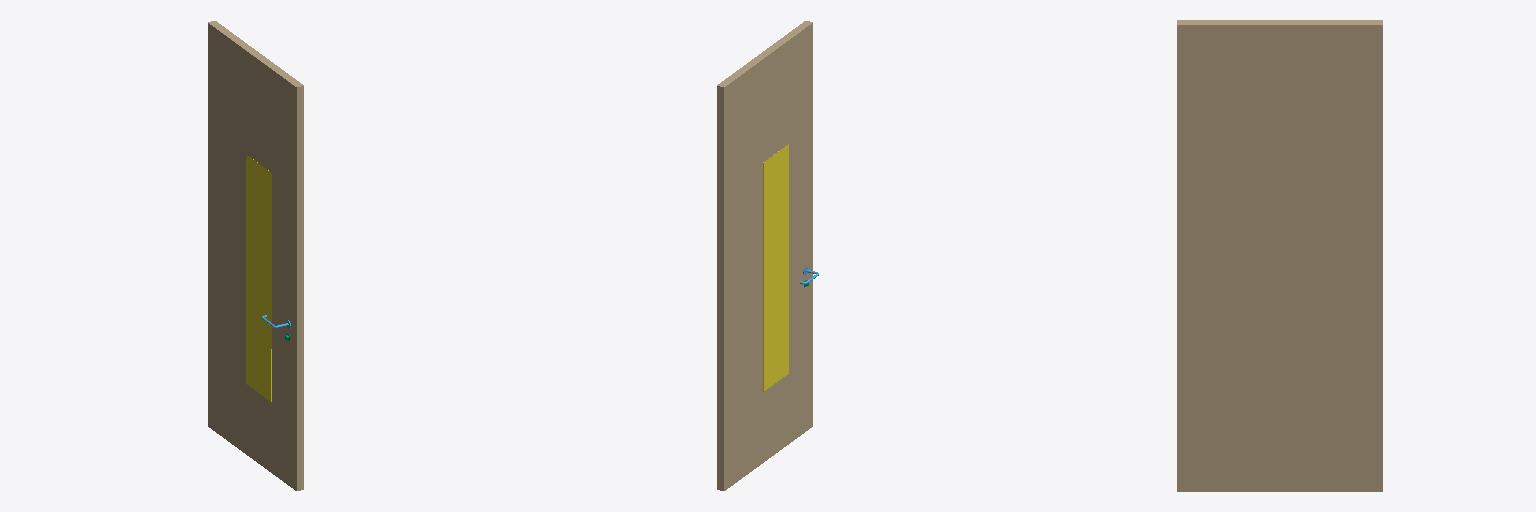
robot.urdf — simple_door:
<?xml version="1.0"?>
<robot name="simple_door">

  <!-- Door link -->
  <link name="door">
    <visual>
      <origin xyz="0 0 1.25" rpy="0 0 0"/> <!-- Centers the door in the Z-axis, assuming its height is 2.5m -->
      <geometry>
        <box size="0.05 1.0 2.5"/> <!-- Placeholder dimensions for the door: thickness x width x height -->
      </geometry>
       <material name="wood"> 
        <color rgba="0.76 0.69 0.57 1"/> <!-- Example wood color -->
       </material> 
    </visual>
    <collision>
      <origin xyz="0 0 1.25" rpy="0 0 0"/>
      <geometry>
        <box size="0.05 1.0 2.5"/> <!-- Same size as visual for simplicity -->
      </geometry>
    </collision>
    <inertial>
      <origin xyz="0 0 1.25" rpy="0 0 0"/>
      <mass value="30.0"/> <!-- Example mass in kg -->
      <inertia ixx="1.0" ixy="0" ixz="0" iyy="1.0" iyz="0" izz="1.0"/> <!-- Example inertia, replace with real values -->
    </inertial>
  </link>

  <!-- Handle link -->
  <link name="handle">
    <visual>
      <origin xyz="-0.03 -0.06 0.5" rpy="-3.14 0 0"/> <!-- Placed 1m above the base of the door -->
      <geometry>
        <mesh filename="door_handle.obj" scale="1 1 1"/> <!-- Your STL file for the handle -->
      </geometry>
    </visual>
    <collision>
      <origin xyz="-0.03 -0.06 0.5" rpy="-3.14 0 0"/>
      <geometry>
        <mesh filename="door_handle.obj" scale="1 1 1"/> <!-- Your STL file for the collision geometry -->
      </geometry>
    </collision>
    <inertial>
      <origin xyz="-0.03 -0.06 0.5" rpy="-3.14 0 0"/>
      <mass value="0.5"/> <!-- Example mass of the handle in kg -->
      <inertia ixx="0.01" ixy="0" ixz="0" iyy="0.01" iyz="0" izz="0.01"/> <!-- Placeholder inertia values -->
    </inertial>
  </link>

  <!-- Fixed joint for the handle, assuming the handle is directly on the door -->
  <joint name="handle_joint" type="fixed">
    <parent link="door"/>
    <child link="handle"/>
    <origin xyz="0.0 -0.35 0.5" rpy="0 0 0"/> <!-- Exact position of the handle on the door -->
  </joint>

  <!-- knob link -->
  <link name="knob">
    <visual>
      <origin xyz="-0.03 -0.06 0.5" rpy="-3.14 0 1.5708"/> <!-- Placed 1m above the base of the door -->
      <geometry>
        <mesh filename="knob.obj" scale="1 1 1"/> <!-- Your STL file for the handle -->
      </geometry>
    </visual>
    <collision>
      <origin xyz="-0.03 -0.06 0.5" rpy="-3.14 0 1.5708"/>
      <geometry>
        <mesh filename="knob.obj" scale="1 1 1"/> <!-- Your STL file for the collision geometry -->
      </geometry>
    </collision>
    <inertial>
      <origin xyz="-0.03 -0.06 0.5" rpy="-3.14 0 1.5708"/>
      <mass value="0.5"/> <!-- Example mass of the handle in kg -->
      <inertia ixx="0.01" ixy="0" ixz="0" iyy="0.01" iyz="0" izz="0.01"/> <!-- Placeholder inertia values -->
    </inertial>
  </link>

  <!-- Fixed joint for knobs -->
  <joint name="knob_joint" type="fixed">
    <parent link="door"/>
    <child link="knob"/>
    <origin xyz="0.005 -0.35 0.42" rpy="0 0 0"/> <!-- Exact position of the handle on the door -->
  </joint>

  <!-- knob link -->
  <link name="green_protrusion">
    <visual>
      <origin xyz="-0.01 -0.06 0.5" rpy="-3.14 0 1.5708"/> <!-- Placed 1m above the base of the door -->
      <geometry>
        <mesh filename="green_protrusion.obj" scale="1 1 1"/> <!-- Your STL file for the handle -->
      </geometry>
    </visual>
    <collision>
      <origin xyz="-0.01 -0.06 0.5" rpy="-3.14 0 1.5708"/>
      <geometry>
        <mesh filename="green_protrusion.obj" scale="1 1 1"/> <!-- Your STL file for the collision geometry -->
      </geometry>
    </collision>
    <inertial>
      <origin xyz="-0.01 -0.06 0.5" rpy="-3.14 0 1.5708"/>
      <mass value="0.5"/> <!-- Example mass of the handle in kg -->
      <inertia ixx="0.01" ixy="0" ixz="0" iyy="0.01" iyz="0" izz="0.01"/> <!-- Placeholder inertia values -->
    </inertial>
  </link>

  <!-- Fixed joint for knobs -->
  <joint name="green_protrusion_joint" type="fixed">
    <parent link="door"/>
    <child link="green_protrusion"/>
    <origin xyz="0.008 -0.02 0.65" rpy="0 0 0"/> <!-- Exact position of the handle on the door -->
  </joint>




</robot>

--- Render facts (derived) ---
3 views of the same robot in one strip: view 1: azimuth 30°, elevation 25°; view 2: azimuth 150°, elevation 25°; view 3: azimuth 270°, elevation 25° (orthographic).
Robot: simple_door — 4 links, 3 joints (3 fixed); root link door; default pose: every joint at zero.
Links seen in each view (by area): view 1: door, green_protrusion; view 2: door, green_protrusion; view 3: door.
Boxes of the visible links, x1,y1,x2,y2 form: door: (208, 21, 303, 490); green_protrusion: (246, 155, 271, 401); door: (717, 21, 812, 490); green_protrusion: (763, 144, 788, 391); door: (1177, 20, 1382, 491).
Size in the robot's own frame: 0.1433 by 1 by 2.5 metres.
Meshes: 3 distinct files referenced, 3 mesh visuals loaded (3 OBJ).